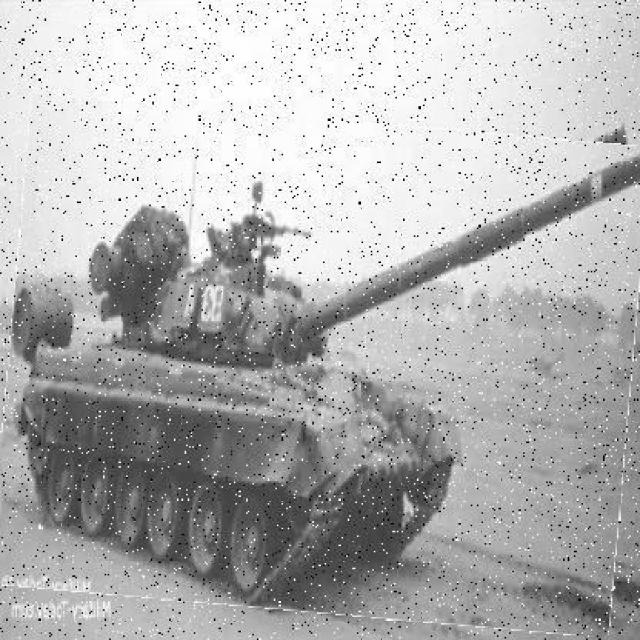Tank: (3, 107, 640, 629)
